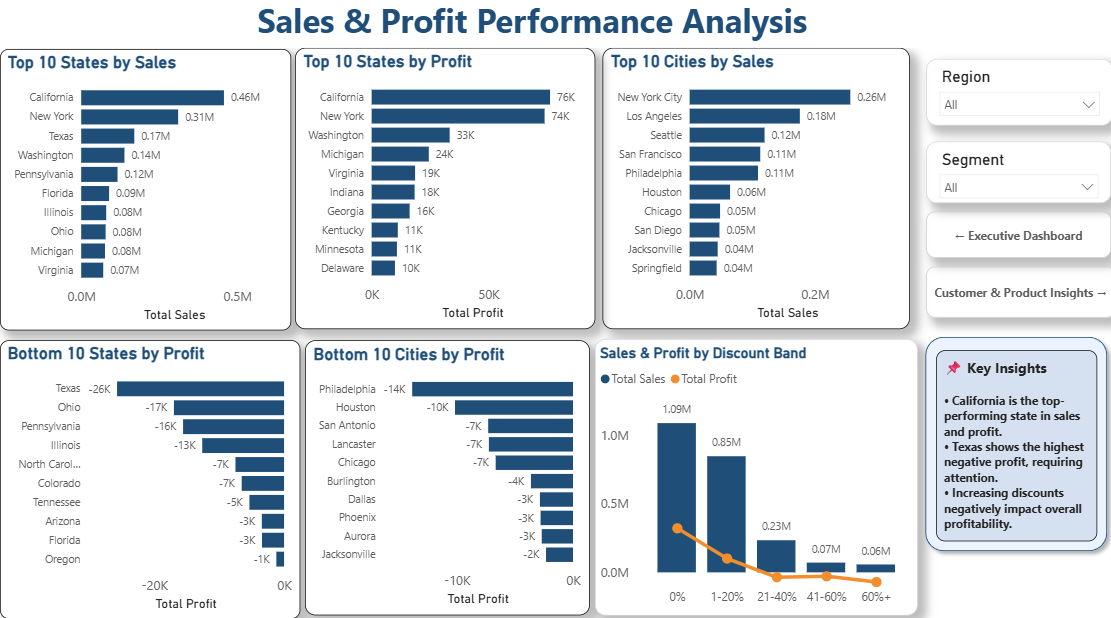

The dashboard page shown, as its layout file describes it:
{"tool":"powerbi","page":{"name":"Sales & Profit Analysis","canvas":[1280,720],"ordinal":1},"visuals":[{"type":"clusteredBarChart","title":"Top 10 States by Sales","fields":{"Category":["superstore_sales csv.State"],"Y":["Mearsure.Total Sales"]},"box":[5.7,62.9,332.9,321.4],"z":0},{"type":"slicer","fields":{"Values":["superstore_sales csv.Region"]},"box":[1064.3,74.3,212.9,75.7],"z":1000},{"type":"slicer","fields":{"Values":["superstore_sales csv.Segment"]},"box":[1064.3,168.6,211.4,70],"z":2000},{"type":"clusteredBarChart","title":"Top 10 Cities by Sales","fields":{"Category":["superstore_sales csv.City"],"Y":["Mearsure.Total Sales"]},"box":[694.3,61.4,351.4,321.4],"z":3000},{"type":"clusteredBarChart","title":"Top 10 States by Profit","fields":{"Category":["superstore_sales csv.State"],"Y":["Mearsure.Total Profit"]},"box":[342.9,61.4,342.9,321.4],"z":4000},{"type":"clusteredBarChart","title":"Bottom 10 States by Profit","fields":{"Category":["superstore_sales csv.State"],"Y":["Mearsure.Total Profit"]},"box":[5.7,395.7,342.9,318.6],"z":5000},{"type":"clusteredBarChart","title":"Bottom 10 Cities by Profit","fields":{"Category":["superstore_sales csv.City"],"Y":["Mearsure.Total Profit"]},"box":[354.3,395.7,325.7,314.3],"z":6000},{"type":"textbox","box":[0,0,1227.8,61.2],"z":7000},{"type":"lineClusteredColumnComboChart","title":"Sales & Profit by Discount Band","fields":{"Category":["superstore_sales csv.Discount Band"],"Y":["Mearsure.Total Sales"],"Y2":["Mearsure.Total Profit"]},"box":[685.7,394.3,368.6,315.7],"z":8000},{"type":"actionButton","box":[1064.3,248.6,211.4,52.9],"z":9000},{"type":"actionButton","box":[1064.3,311.4,215.7,58.6],"z":10000},{"type":"shape","box":[1054.3,382.9,225.7,262.9],"z":10001},{"type":"textbox","box":[1075.7,407.1,184.3,218.6],"z":10002}]}

Visuals, with their boxes in screenshot pixels (x1, y1, x2, y2), scaled from the page's 1280x720 canvas onto the 1111x618 screenshot:
"Top 10 States by Sales" clusteredBarChart: x1=5, y1=54, x2=294, y2=330
slicer - superstore_sales csv.Region: x1=924, y1=64, x2=1109, y2=129
slicer - superstore_sales csv.Segment: x1=924, y1=145, x2=1107, y2=205
"Top 10 Cities by Sales" clusteredBarChart: x1=603, y1=53, x2=908, y2=329
"Top 10 States by Profit" clusteredBarChart: x1=298, y1=53, x2=595, y2=329
"Bottom 10 States by Profit" clusteredBarChart: x1=5, y1=340, x2=303, y2=613
"Bottom 10 Cities by Profit" clusteredBarChart: x1=308, y1=340, x2=590, y2=609
textbox: x1=0, y1=0, x2=1066, y2=53
"Sales & Profit by Discount Band" lineClusteredColumnComboChart: x1=595, y1=338, x2=915, y2=609
actionButton: x1=924, y1=213, x2=1107, y2=259
actionButton: x1=924, y1=267, x2=1110, y2=318
shape: x1=915, y1=329, x2=1110, y2=554
textbox: x1=934, y1=349, x2=1094, y2=537
